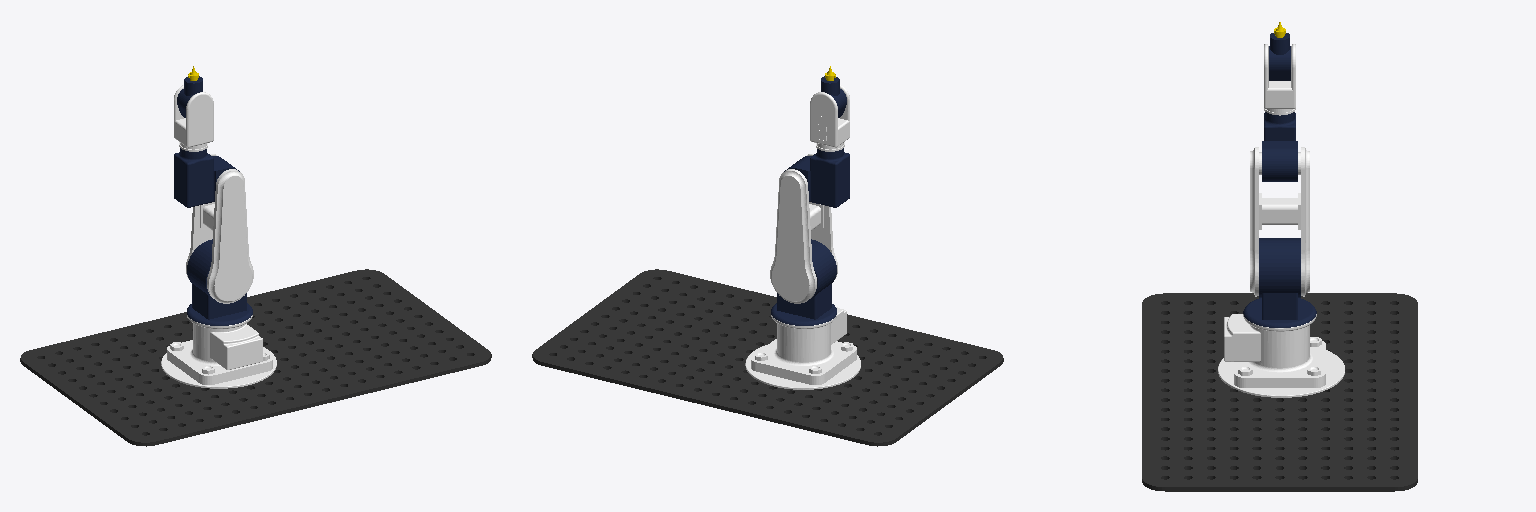
URDF robot description (cobot_arm_urdf):
<?xml version="1.0" encoding="UTF-8"?>
<robot name="cobot_arm_urdf">

  <material name="blue">
    <color rgba="0.156 0.2 0.314 1"/>
  </material>

  <material name="white">
    <color rgba="1 1 1 1"/>
  </material>

  <material name="black">
    <color rgba="0.25098 0.25098 0.25098 1" />    
  </material>

  <material name="gold">
    <color rgba="1.0 0.8745 0.0 1" />    
  </material>

  <!-- Dummy Link -->
  <link name="robot_footprint" />

  <joint name="footprint_joint" type="fixed">
    <origin xyz="0 0 0" rpy="0 0 0" />
    <child link="base_link" />
    <parent link="robot_footprint" />
  </joint>

  <link name="base_link">
    <inertial>
      <origin xyz="-0.00047113 0.01 1.5359E-16" rpy="0 0 0" />
      <mass value="42.676" />
      <inertia ixx="5.1788" ixy="5.6018E-18" ixz="3.2196E-13" iyy="19.441" iyz="9.6284E-19" izz="14.265" />
    </inertial>
    <visual>
      <origin xyz="0 0 0" rpy="0 0 0" />
      <geometry>
        <mesh filename="package://cobot_arm_urdf/meshes/base_link.STL" />
      </geometry>
      <material name="black" />
    </visual>
    <collision>
      <origin xyz="0 0 0" rpy="0 0 0" />
      <geometry>
        <mesh filename="package://cobot_arm_urdf/meshes/base_link.STL" />
      </geometry>
    </collision>
  </link>
  <link name="Link_0">
    <inertial>
      <origin xyz="7.2923E-09 0.093033 0.030451" rpy="0 0 0" />
      <mass value="20.025" />
      <inertia ixx="0.42483" ixy="5.8477E-08" ixz="-2.2478E-08" iyy="0.49934" iyz="-0.042653" izz="0.33923" />
    </inertial>
    <visual>
      <origin xyz="0 0 0" rpy="0 0 0" />
      <geometry>
        <mesh filename="package://cobot_arm_urdf/meshes/Link_0.STL" />
      </geometry>
      <material name="white" />
    </visual>
    <collision>
      <origin xyz="0 0 0" rpy="0 0 0" />
      <geometry>
        <mesh filename="package://cobot_arm_urdf/meshes/Link_0.STL" />
      </geometry>
    </collision>
  </link>
  <joint name="Joint_0_Fixed" type="fixed">
    <origin xyz="-0.2 0 0.02" rpy="1.5708 0 0" />
    <parent link="base_link" />
    <child link="Link_0" />
    <axis xyz="0 0 0" />
  </joint>
  <link name="Link_1">
    <inertial>
      <origin xyz="-1.5709E-10 0.21351 -7.2382E-18" rpy="0 0 0" />
      <mass value="14.438" />
      <inertia ixx="0.27994" ixy="-1.2695E-09" ixz="1.2578E-09" iyy="0.10762" iyz="-2.8073E-15" izz="0.30662" />
    </inertial>
    <visual>
      <origin xyz="0 0 0" rpy="0 0 0" />
      <geometry>
        <mesh filename="package://cobot_arm_urdf/meshes/Link_1.STL" />
      </geometry>
      <material name="blue" />
    </visual>
    <collision>
      <origin xyz="0 0 0" rpy="0 0 0" />
      <geometry>
        <mesh filename="package://cobot_arm_urdf/meshes/Link_1.STL" />
      </geometry>
    </collision>
  </link>
  <joint name="Joint_1" type="revolute">
    <origin xyz="0 0.16 0" rpy="0 0 0" />
    <parent link="Link_0" />
    <child link="Link_1" />
    <axis xyz="0 1 0" />
    <limit lower="-2.3562" upper="2.3562" effort="5" velocity="1" />
  </joint>
  <link name="Link_2">
    <inertial>
      <origin xyz="-1.6653E-16 1.8287E-12 -0.1916" rpy="0 0 0" />
      <mass value="15.486" />
      <inertia ixx="0.71676" ixy="-3.154E-12" ixz="-4.87E-16" iyy="0.62209" iyz="3.1566E-12" izz="0.15746" />
    </inertial>
    <visual>
      <origin xyz="0 0 0" rpy="0 0 0" />
      <geometry>
        <mesh filename="package://cobot_arm_urdf/meshes/Link_2.STL" />
      </geometry>
      <material name="white" />
    </visual>
    <collision>
      <origin xyz="0 0 0" rpy="0 0 0" />
      <geometry>
        <mesh filename="package://cobot_arm_urdf/meshes/Link_2.STL" />
      </geometry>
    </collision>
  </link>
  <joint name="Joint_2" type="revolute">
    <origin xyz="0 0.336 0" rpy="-1.5708 0 3.1416" />
    <parent link="Link_1" />
    <child link="Link_2" />
    <axis xyz="0 1 0" />
    <limit lower="-2.18" upper="2.18" effort="5" velocity="1" />
  </joint>
  <link name="Link_3">
    <inertial>
      <origin xyz="0.031575 0.10794 -1.3858E-08" rpy="0 0 0" />
      <mass value="7.7708" />
      <inertia ixx="0.056614" ixy="-0.0098902" ixz="-3.0059E-08" iyy="0.058884" iyz="-7.9913E-09" izz="0.088878" />
    </inertial>
    <visual>
      <origin xyz="0 0 0" rpy="0 0 0" />
      <geometry>
        <mesh filename="package://cobot_arm_urdf/meshes/Link_3.STL" />
      </geometry>
      <material name="blue" />
    </visual>
    <collision>
      <origin xyz="0 0 0" rpy="0 0 0" />
      <geometry>
        <mesh filename="package://cobot_arm_urdf/meshes/Link_3.STL" />
      </geometry>
    </collision>
  </link>
  <joint name="Joint_3" type="revolute">
    <origin xyz="0 0 -0.5" rpy="1.5708 1.5708 0" />
    <parent link="Link_2" />
    <child link="Link_3" />
    <axis xyz="0 0 1" />
    <limit lower="-3.02" upper="0.60" effort="5" velocity="1" />
  </joint>
  <link name="Link_4">
    <inertial>
      <origin xyz="0.12986 -4.6577E-06 -6.4336E-05" rpy="0 0 0" />
      <mass value="4.2007" />
      <inertia ixx="0.01409" ixy="-2.657E-07" ixz="-4.9703E-06" iyy="0.036461" iyz="-1.3682E-06" izz="0.034904" />
    </inertial>
    <visual>
      <origin xyz="0 0 0" rpy="0 0 0" />
      <geometry>
        <mesh filename="package://cobot_arm_urdf/meshes/Link_4.STL" />
      </geometry>
      <material name="white" />
    </visual>
    <collision>
      <origin xyz="0 0 0" rpy="0 0 0" />
      <geometry>
        <mesh filename="package://cobot_arm_urdf/meshes/Link_4.STL" />
      </geometry>
    </collision>
  </link>
  <joint name="Joint_4" type="revolute">
    <origin xyz="0.19746 0.145 0" rpy="0 0 0" />
    <parent link="Link_3" />
    <child link="Link_4" />
    <axis xyz="1 0 0" />
    <limit lower="-1.5714" upper="1.5714" effort="5" velocity="1" />
  </joint>
  <link name="Link_5">
    <inertial>
      <origin xyz="0.018265 2.5601E-11 1.014E-07" rpy="0 0 0" />
      <mass value="1.1219" />
      <inertia ixx="0.0021242" ixy="2.9136E-09" ixz="-1.6916E-09" iyy="0.0054371" iyz="-2.7465E-09" izz="0.0059471" />
    </inertial>
    <visual>
      <origin xyz="0 0 0" rpy="0 0 0" />
      <geometry>
        <mesh filename="package://cobot_arm_urdf/meshes/Link_5.STL" />
      </geometry>
      <material name="blue" />
    </visual>
    <collision>
      <origin xyz="0 0 0" rpy="0 0 0" />
      <geometry>
        <mesh filename="package://cobot_arm_urdf/meshes/Link_5.STL" />
      </geometry>
    </collision>
  </link>
  <joint name="Joint_5" type="revolute">
    <origin xyz="0.23 0 0" rpy="0 0 0" />
    <parent link="Link_4" />
    <child link="Link_5" />
    <axis xyz="0 0 1" />
    <limit lower="-2.16" upper="2.16" effort="5" velocity="1" />
  </joint>
  <link name="End_Tool">
    <inertial>
      <origin xyz="0.020268 0.00036256 1.149E-14" rpy="0 0 0" />
      <mass value="0.05861" />
      <inertia ixx="1.4239E-05" ixy="-2.6177E-08" ixz="1.7055E-21" iyy="1.5132E-05" iyz="-1.87E-20" izz="1.5702E-05" />
    </inertial>
    <visual>
      <origin xyz="0 0 0" rpy="0 0 0" />
      <geometry>
        <mesh filename="package://cobot_arm_urdf/meshes/End_Tool.STL" />
      </geometry>
      <material name="gold" />
    </visual>
    <collision>
      <origin xyz="0 0 0" rpy="0 0 0" />
      <geometry>
        <mesh filename="package://cobot_arm_urdf/meshes/End_Tool.STL" />
      </geometry>
    </collision>
  </link>
  <joint name="Joint_6" type="revolute">
    <origin xyz="0.12 0 0" rpy="0 0 0" />
    <parent link="Link_5" />
    <child link="End_Tool" />
    <axis xyz="1 0 0" />
    <limit lower="-3.1416" upper="3.1416" effort="5" velocity="1" />
  </joint>

  <!-- Tool Tip Link -->
  <link name="tool_tip" />

  <joint name="tool_tip_joint" type="fixed">
    <origin xyz="0.07439 0 0" rpy="0 0 0" />
    <child link="tool_tip" />
    <parent link="End_Tool" />
  </joint>

</robot>

--- Render facts (derived) ---
3 views of the same robot in one strip: view 1: azimuth 30°, elevation 25°; view 2: azimuth 150°, elevation 25°; view 3: azimuth 270°, elevation 25° (orthographic).
Robot: cobot_arm_urdf — 10 links, 9 joints (6 revolute, 3 fixed); root link robot_footprint; default pose: every joint at zero.
Links seen in each view (by area): view 1: base_link, Link_0, Link_2, Link_1, Link_3, Link_4; view 2: base_link, Link_0, Link_2, Link_1, Link_3, Link_4; view 3: base_link, Link_0, Link_1, Link_2, Link_3, Link_4, Link_5.
Boxes of the visible links, left/top/right/bottom form: base_link: left=20, top=269, right=491, bottom=446; Link_0: left=161, top=315, right=276, bottom=388; Link_2: left=186, top=154, right=253, bottom=303; Link_1: left=187, top=239, right=252, bottom=325; Link_3: left=174, top=148, right=239, bottom=207; Link_4: left=174, top=85, right=213, bottom=151; base_link: left=532, top=269, right=1003, bottom=446; Link_0: left=745, top=307, right=860, bottom=389; Link_2: left=770, top=154, right=837, bottom=303; Link_1: left=771, top=239, right=836, bottom=325; Link_3: left=784, top=148, right=849, bottom=207; Link_4: left=810, top=85, right=849, bottom=151; base_link: left=1142, top=293, right=1417, bottom=491; Link_0: left=1218, top=314, right=1344, bottom=397; Link_1: left=1243, top=238, right=1316, bottom=327; Link_2: left=1250, top=147, right=1309, bottom=296; Link_3: left=1262, top=112, right=1297, bottom=181; Link_4: left=1264, top=44, right=1295, bottom=115; Link_5: left=1269, top=33, right=1290, bottom=80.
Size in the robot's own frame: 2 by 1.2 by 1.64 metres.
Meshes: 8 distinct files referenced, 8 mesh visuals loaded (8 binary STL).